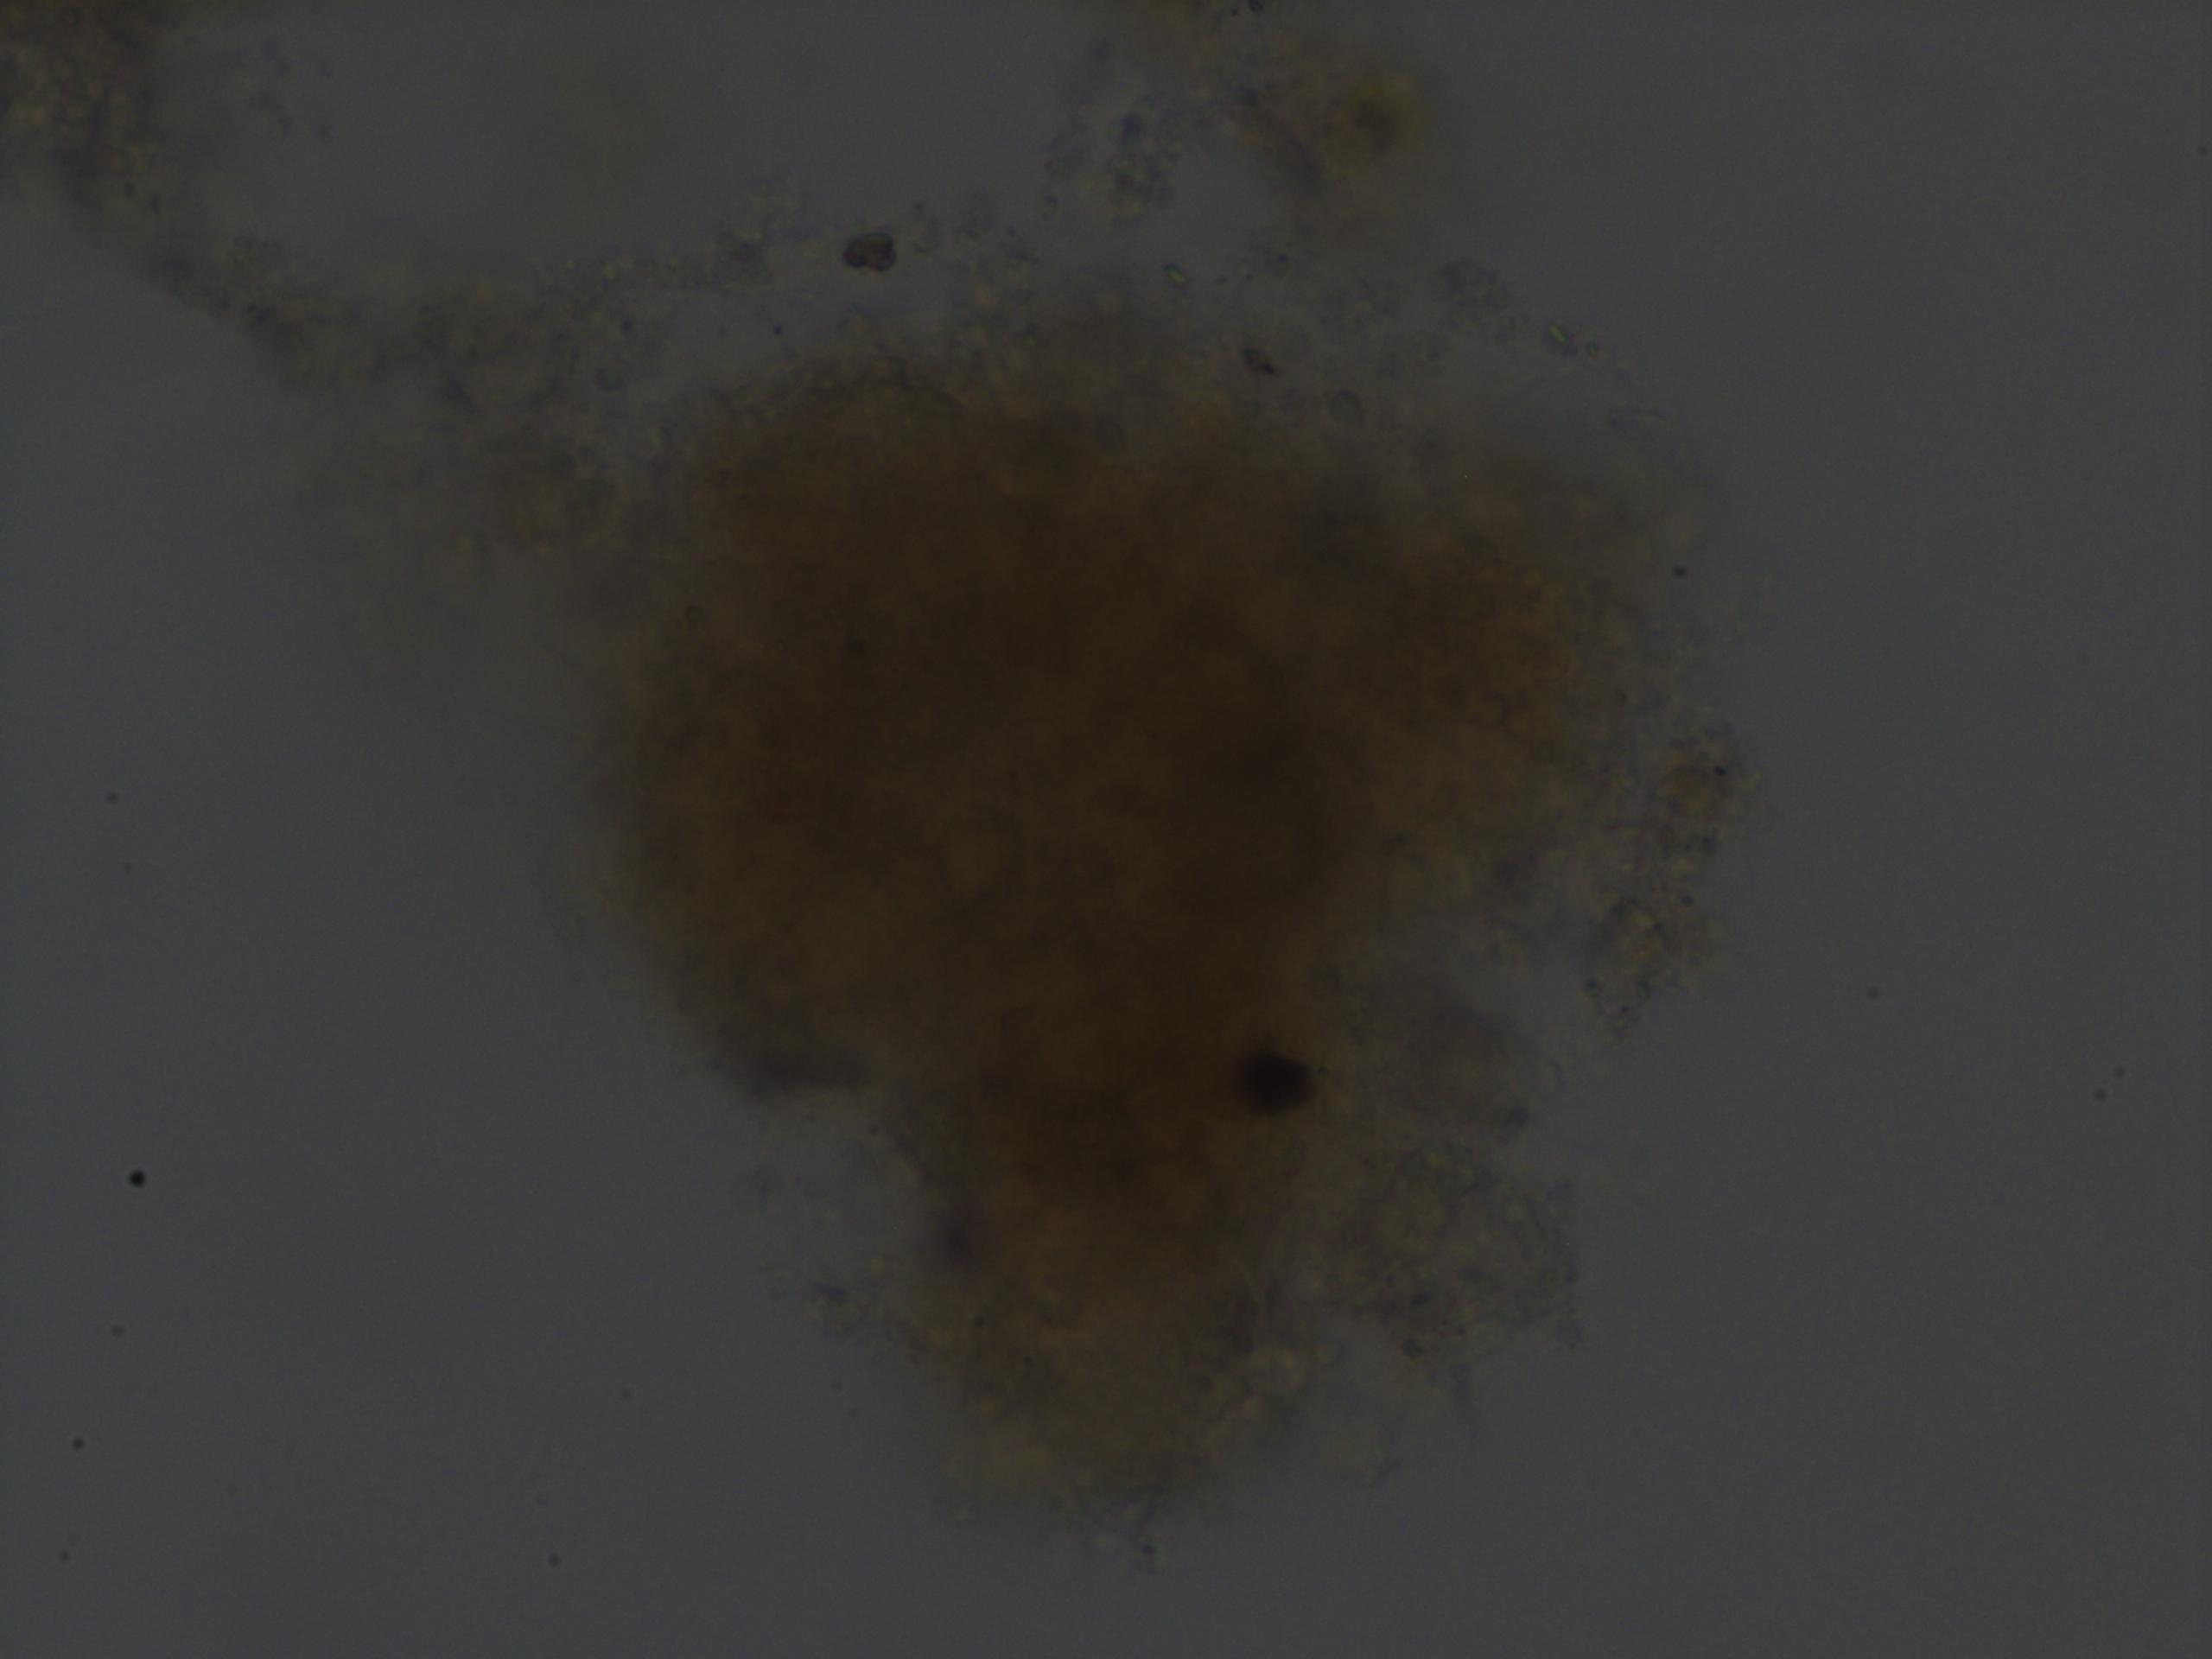spherical_floc: (599, 295, 1658, 1547)
